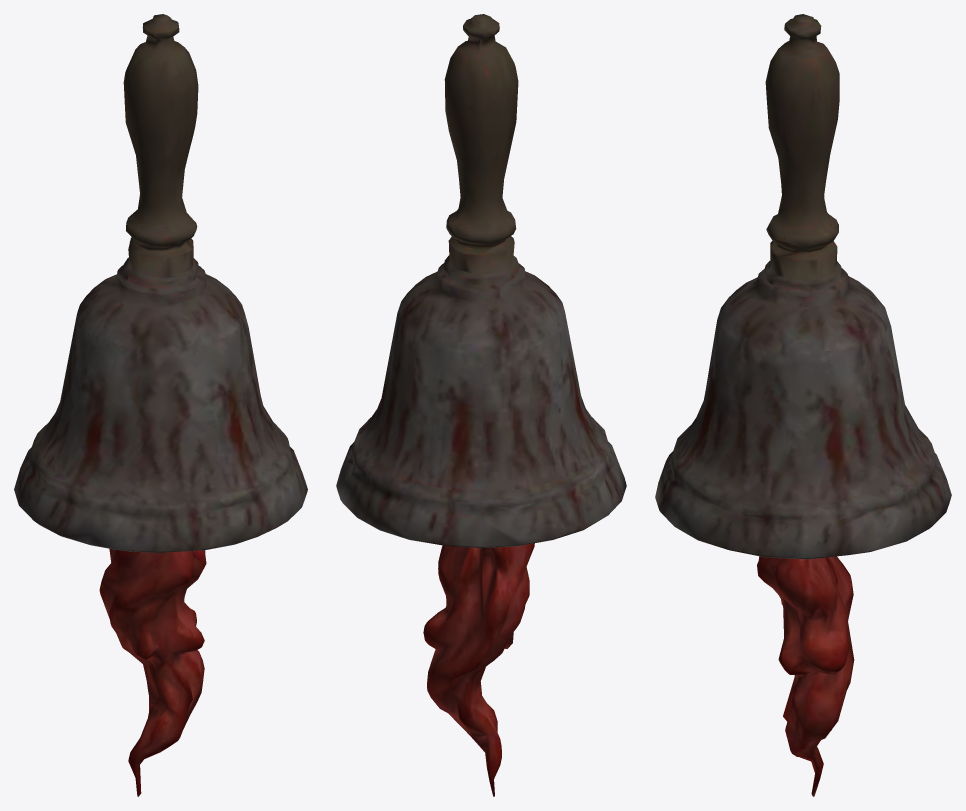
The model's file is prop_bell.glb.
The picture shows the model from 3 angles, left to right: view 1: azimuth 30°, elevation 25°; view 2: azimuth 150°, elevation 25°; view 3: azimuth 270°, elevation 25°; orthographic projection. The views are drawn at different scales.
Visible parts, largest first — view 1: geometry_0; view 2: geometry_0; view 3: geometry_0.
Boxes of the visible parts, box(x1,y1,x2,y2) form: geometry_0: box(14, 14, 307, 796); geometry_0: box(336, 14, 626, 796); geometry_0: box(655, 14, 951, 796).
Bounding box in the file's own units: 0.3425 × 1 × 0.3412.
1 material, 1 textured.
